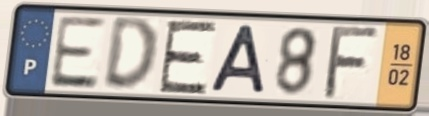8: (272, 24, 321, 99)
A: (207, 22, 268, 97)
D: (100, 15, 160, 95)
E: (155, 19, 220, 96), (46, 13, 107, 91)
F: (320, 24, 384, 101)
